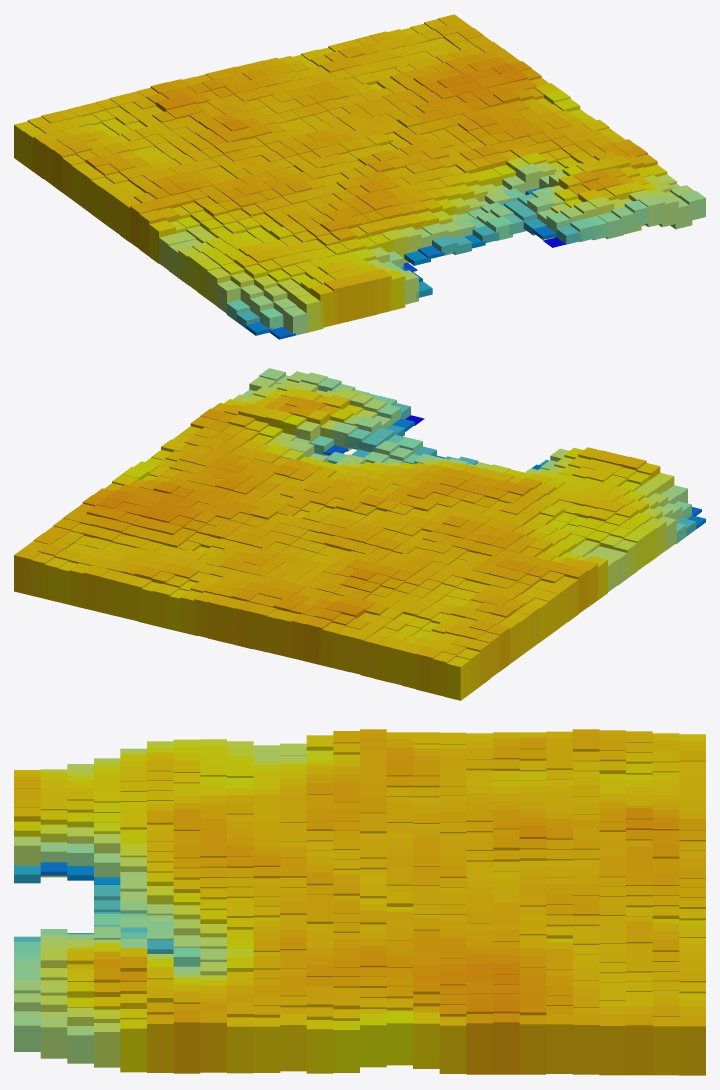
Rendered from population.glb.
3 renders of one model, top to bottom at view 1: azimuth 30°, elevation 25°; view 2: azimuth 150°, elevation 25°; view 3: azimuth 270°, elevation 25°, orthographic. The views are drawn at different scales.
Visible parts, largest first — view 1: population; view 2: population; view 3: population.
Boxes of the visible parts, x1,y1,x2,y2 form: population: (14,14,705,339); population: (14,368,705,700); population: (14,729,705,1075).
Bounding box in the file's own units: 2622 × 263 × 2592.
